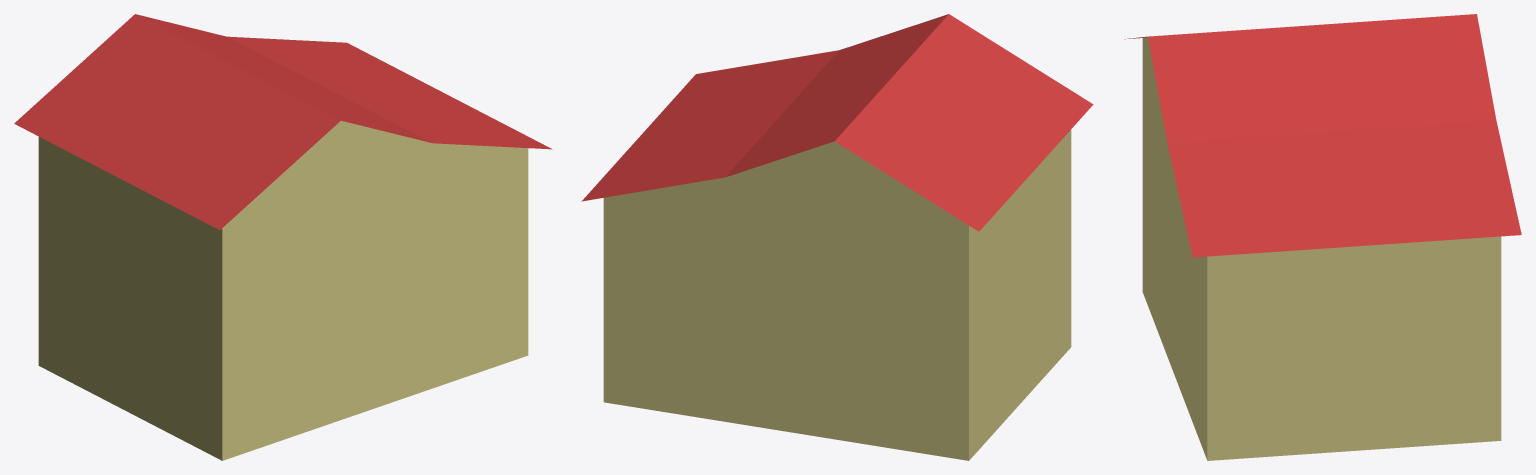
3 views of the same model, side by side, from view 1: azimuth 30°, elevation 25°; view 2: azimuth 150°, elevation 25°; view 3: azimuth 270°, elevation 25° (orthographic). The views are drawn at different scales.
Bounding box in the file's own units: 13.59 × 11.13 × 9.72.
